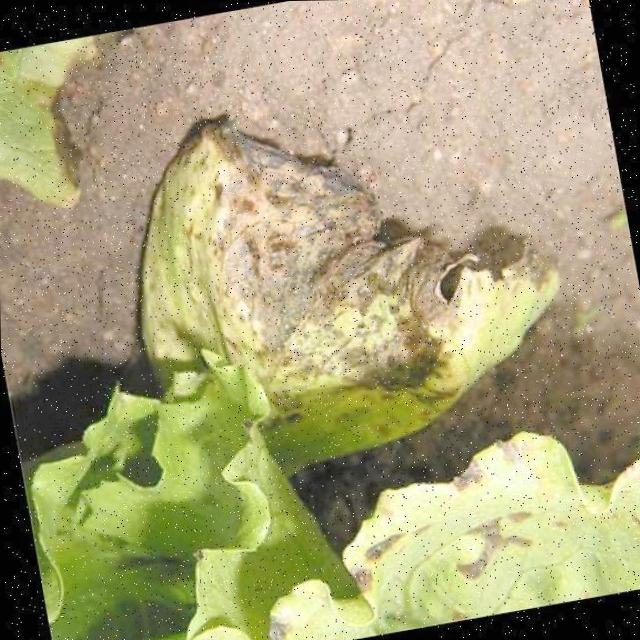Septoria_Blight: (325, 424, 640, 634), (200, 175, 431, 435)
